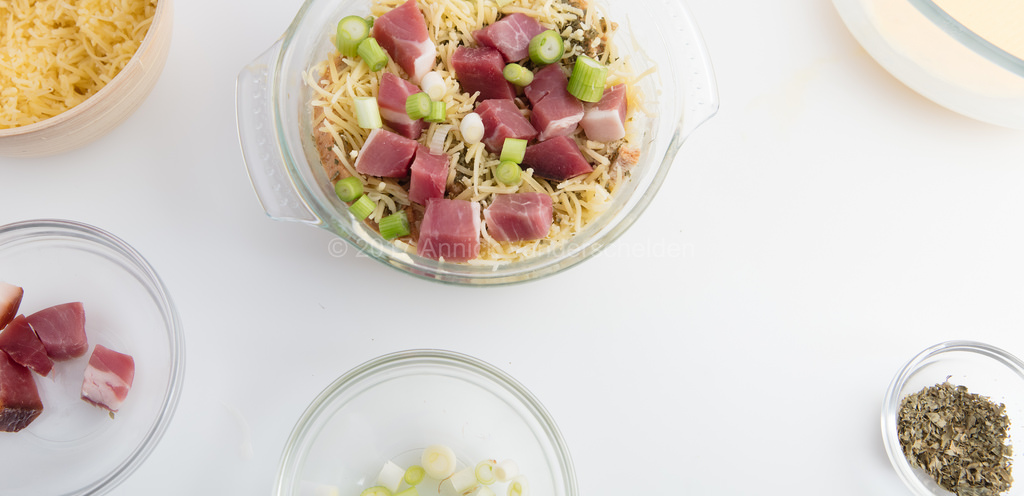plain spaghetti: (32, 25, 91, 89)
